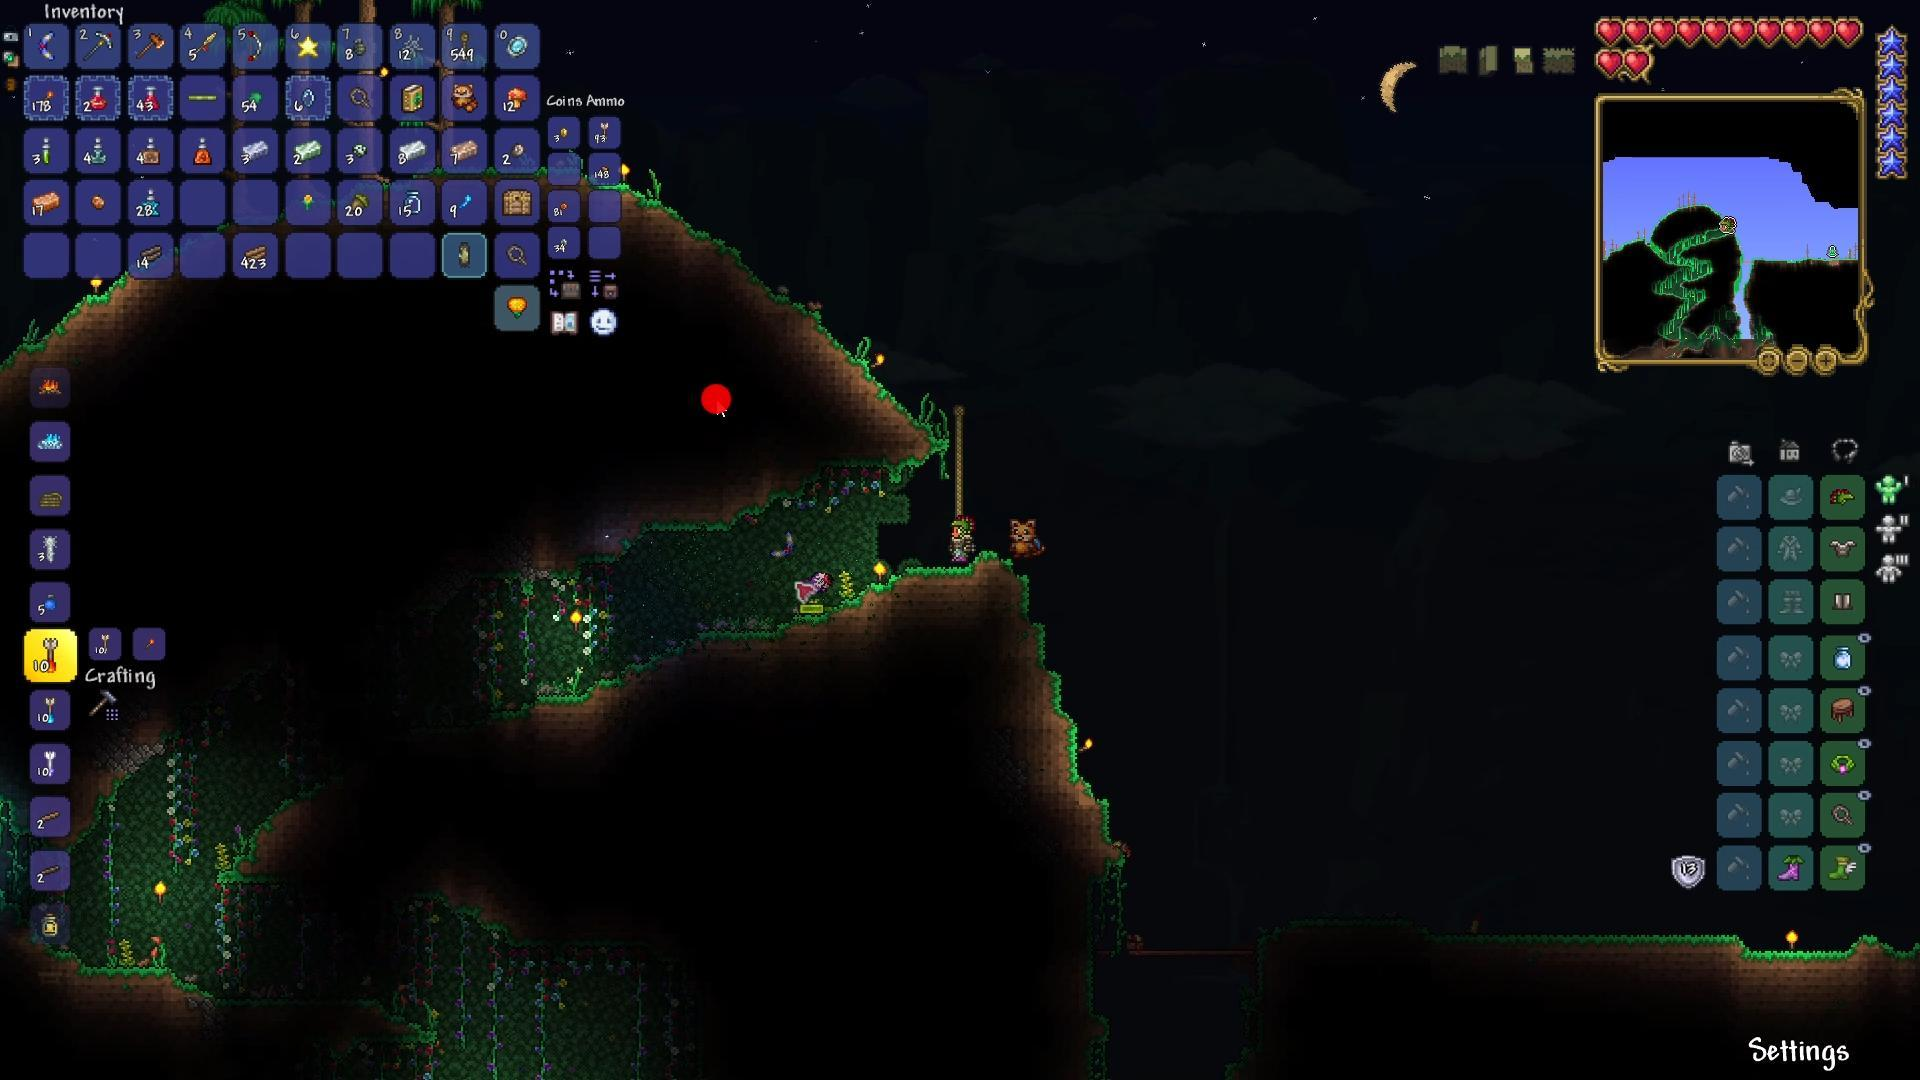dirt: (1009, 572, 1126, 882), (637, 178, 840, 352), (1476, 920, 1888, 973), (198, 773, 324, 890), (835, 334, 942, 459), (667, 612, 847, 682), (75, 948, 255, 1015), (852, 562, 1018, 612), (764, 459, 939, 501), (0, 284, 87, 368), (524, 665, 642, 724), (505, 539, 645, 582), (628, 506, 778, 545), (364, 1001, 446, 1047)
